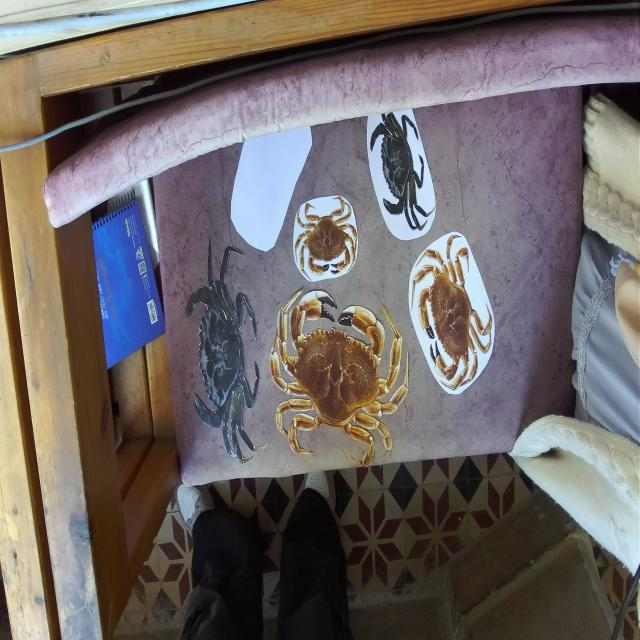European_Green_Crab: (177, 219, 270, 478), (361, 79, 438, 251)
